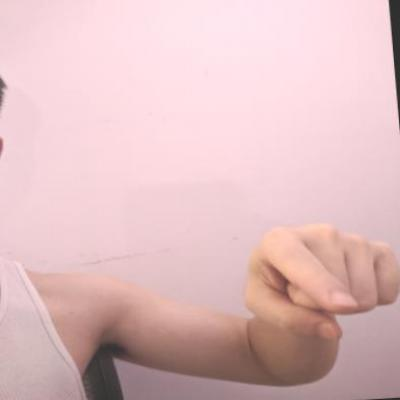hand: (232, 210, 399, 352)
